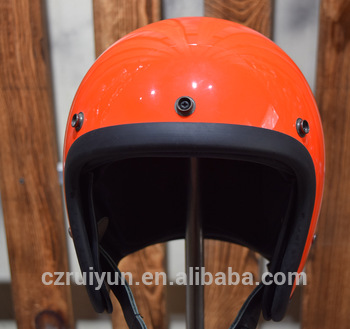with_helmet: (65, 19, 324, 281)
